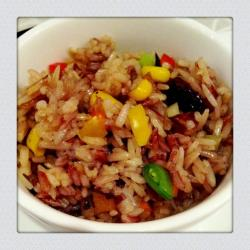rice: (21, 45, 230, 219)
